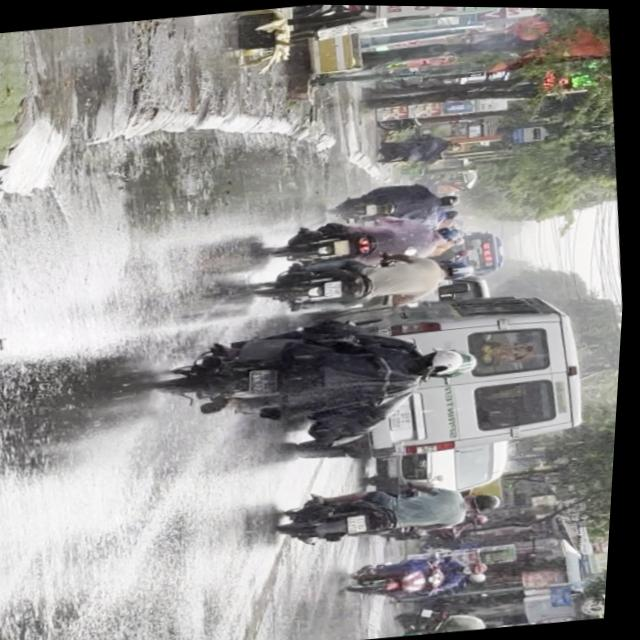helmet: (412, 344, 467, 378), (451, 343, 483, 376), (473, 490, 510, 512), (445, 260, 480, 281), (471, 559, 497, 574)
licenseplate: (149, 310, 488, 436), (281, 470, 515, 552), (257, 243, 485, 320), (347, 546, 501, 604)
nohelmet: (254, 367, 283, 393), (354, 513, 375, 531), (327, 279, 348, 297)
